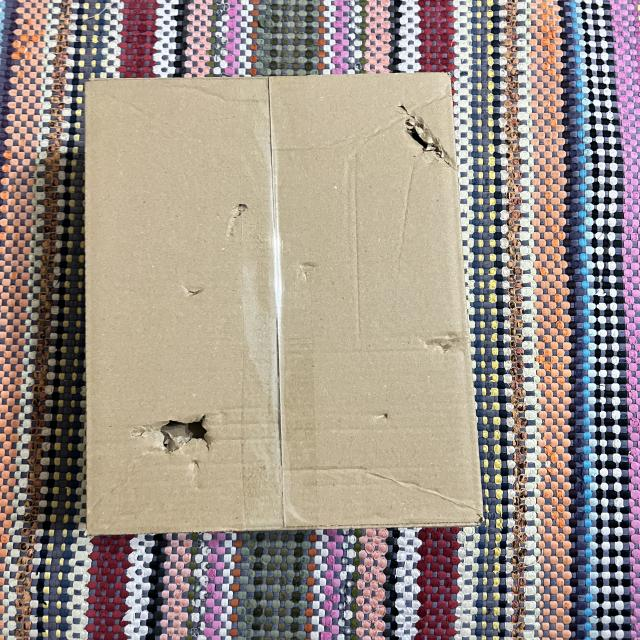damaged: (68, 68, 494, 543), (122, 408, 242, 466), (383, 96, 462, 176), (408, 324, 471, 360)
